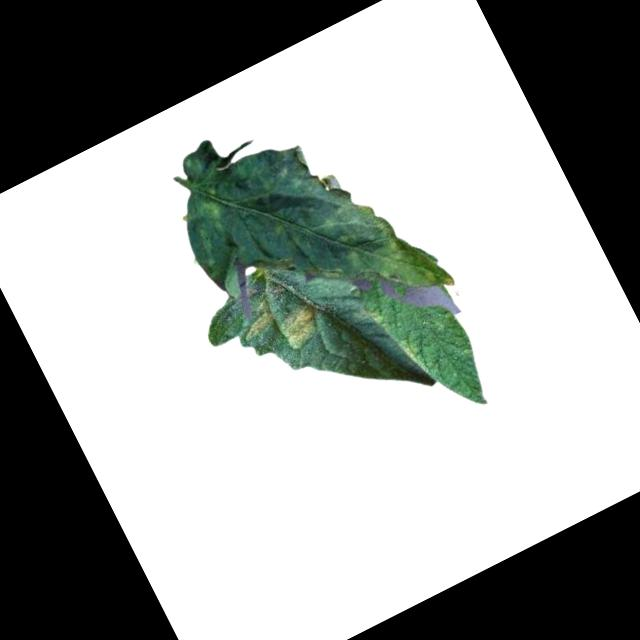Leaf_Mold: (148, 63, 463, 385), (230, 296, 283, 346), (273, 301, 324, 351), (394, 331, 434, 381)
